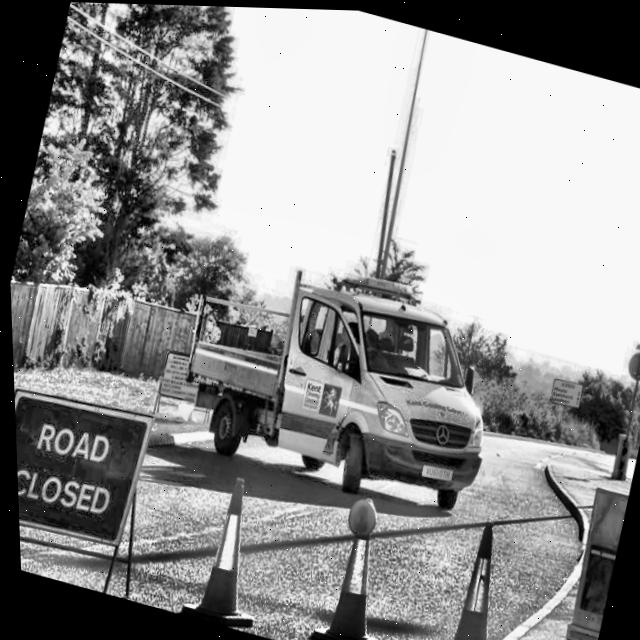light_vehicle: (143, 213, 523, 529)
